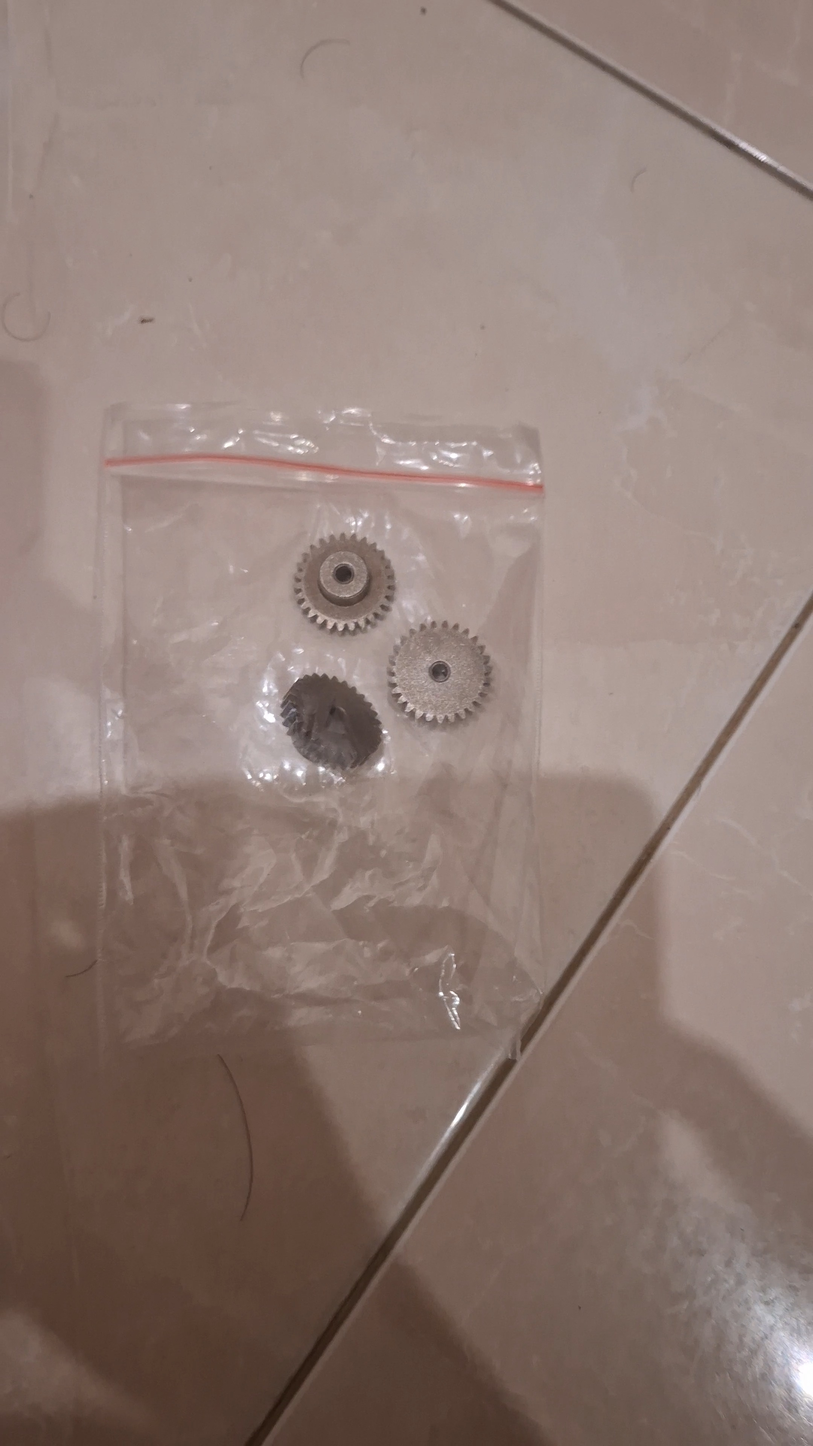spur gear: (384, 619, 493, 726), (290, 532, 396, 635), (277, 672, 381, 772)
